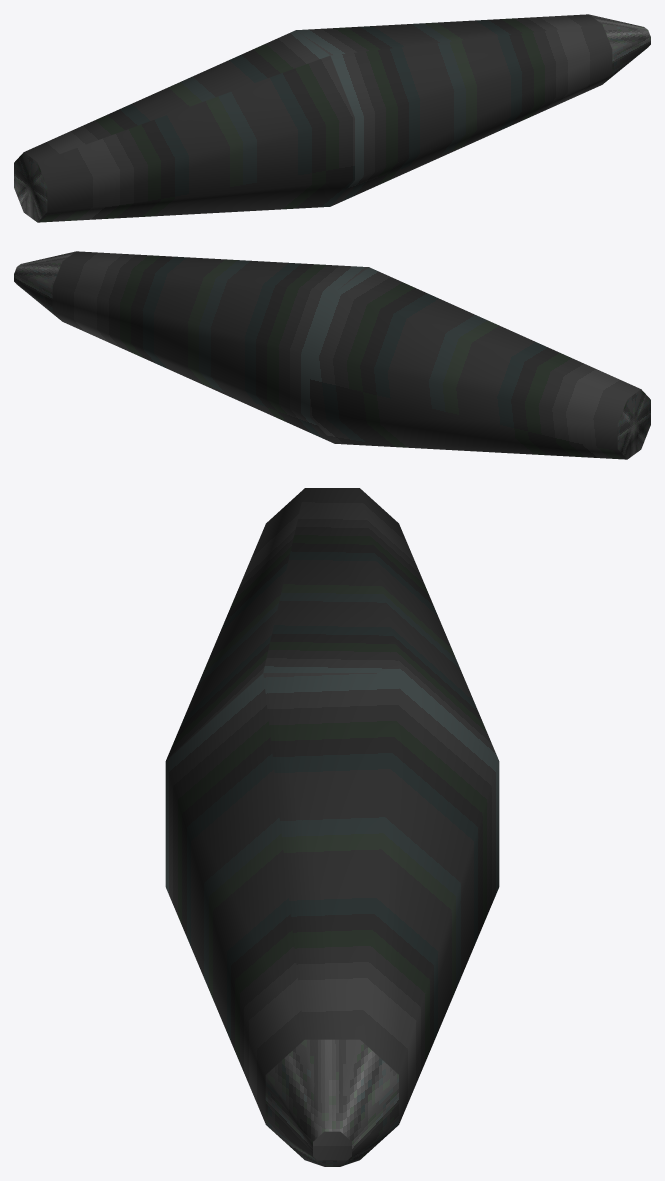
File: RPGrenade__N000_RPGrenade_v0000.glb
3 renders of one model, top to bottom at view 1: azimuth 30°, elevation 25°; view 2: azimuth 150°, elevation 25°; view 3: azimuth 270°, elevation 25°, orthographic. The views are drawn at different scales.
Visible parts, largest first — view 1: N000_RPGrenade_v0000; view 2: N000_RPGrenade_v0000; view 3: N000_RPGrenade_v0000.
Boxes of the visible parts, box(x1,y1,x2,y2) form: N000_RPGrenade_v0000: box(14, 14, 650, 222); N000_RPGrenade_v0000: box(14, 251, 650, 459); N000_RPGrenade_v0000: box(165, 488, 499, 1166).
Size of the model in its own units: 0.3631 by 0.0853 by 0.0853.
1 material, 1 textured.
